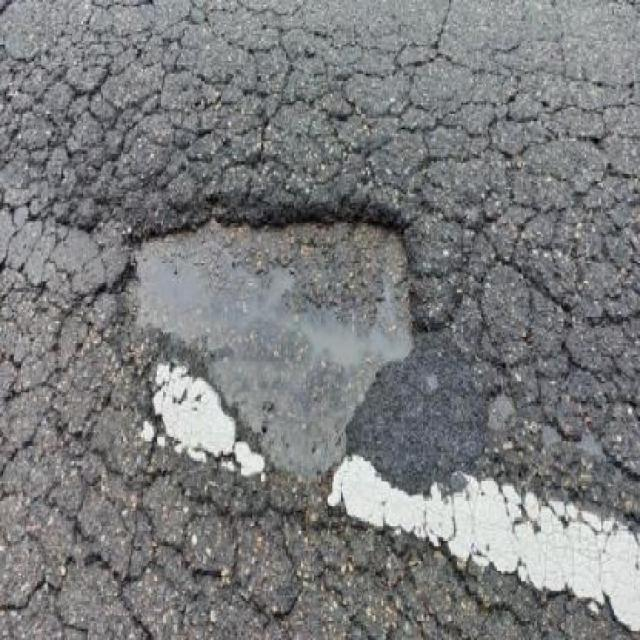Pothole: (109, 176, 428, 490)
